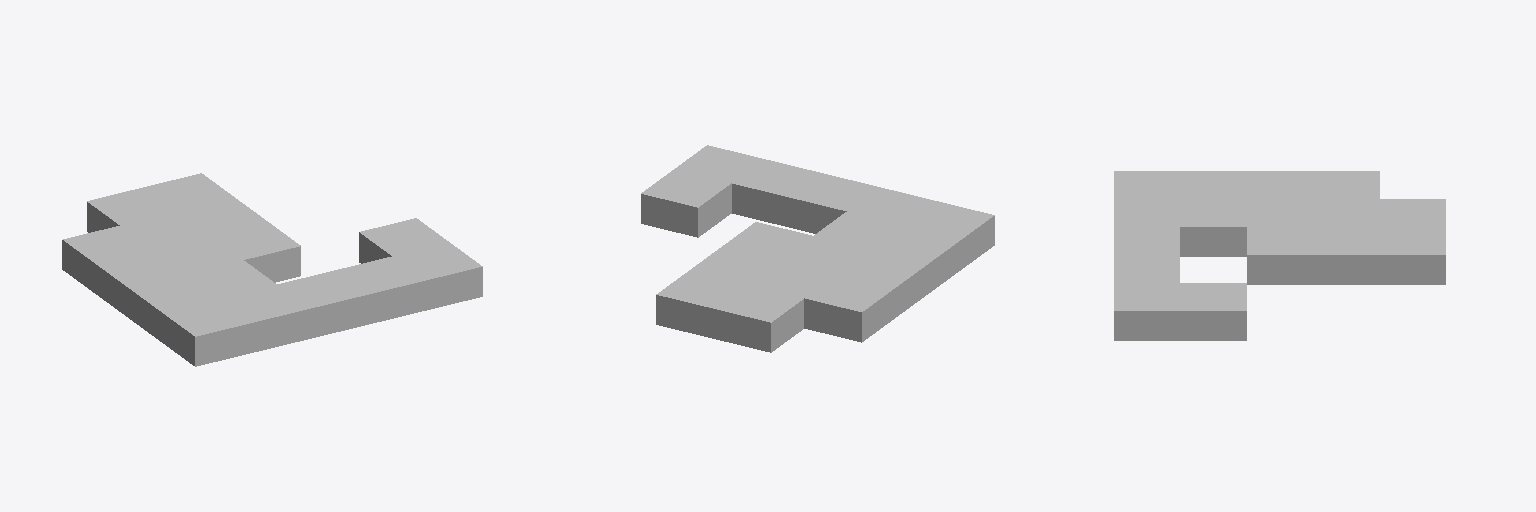
The model's file is 52f_block.obj.
The picture shows the model from 3 angles: view 1: azimuth 30°, elevation 25°; view 2: azimuth 150°, elevation 25°; view 3: azimuth 270°, elevation 25°; orthographic projection.
Parts seen in each view (by area): view 1: foil.block.0.0_block.4302, foil.block.4.0_block.4317, foil.block.2.0_block.4312, foil.block.1.0_block.4307, foil.block.3.0_block.4316, foil.block.2.2_block.4313, foil.block.0.3_block.4305, foil.block.0.2_block.4304, foil.block.0.1_block.4303, foil.block.4.1_block.4318, foil.block.1.4_block.4311, foil.block.2.4_block.4315 (+4 smaller); view 2: foil.block.0.3_block.4305, foil.block.4.1_block.4318, foil.block.1.4_block.4311, foil.block.2.4_block.4315, foil.block.3.0_block.4316, foil.block.2.0_block.4312, foil.block.0.1_block.4303, foil.block.0.0_block.4302, foil.block.0.2_block.4304, foil.block.1.1_block.4308, foil.block.1.3_block.4310, foil.block.2.3_block.4314 (+4 smaller); view 3: foil.block.1.1_block.4308, foil.block.2.3_block.4314, foil.block.4.1_block.4318, foil.block.2.2_block.4313, foil.block.2.4_block.4315, foil.block.4.0_block.4317, foil.block.0.1_block.4303, foil.block.0.3_block.4305, foil.block.1.3_block.4310, foil.block.0.0_block.4302, foil.block.0.2_block.4304, foil.block.1.0_block.4307 (+4 smaller).
Part boxes in pixels (x1,y1,x2,y2): foil.block.0.0_block.4302: (162,298,252,366); foil.block.4.0_block.4317: (392,242,482,310); foil.block.2.0_block.4312: (277,270,367,338); foil.block.1.0_block.4307: (220,285,309,352); foil.block.3.0_block.4316: (335,257,424,324); foil.block.2.2_block.4313: (212,222,300,282); foil.block.0.3_block.4305: (62,226,152,293); foil.block.0.2_block.4304: (96,250,184,317); foil.block.0.1_block.4303: (129,274,218,341); foil.block.4.1_block.4318: (359,218,448,263); foil.block.1.4_block.4311: (87,187,176,232); foil.block.2.4_block.4315: (145,173,234,210); foil.block.0.3_block.4305: (804,274,894,342); foil.block.4.1_block.4318: (641,169,731,237); foil.block.1.4_block.4311: (714,285,803,352); foil.block.2.4_block.4315: (656,270,746,338); foil.block.3.0_block.4316: (732,159,821,226); foil.block.2.0_block.4312: (789,173,878,233); foil.block.0.1_block.4303: (871,226,961,293); foil.block.0.0_block.4302: (904,201,994,268); foil.block.0.2_block.4304: (839,250,927,317); foil.block.1.1_block.4308: (814,212,903,249); foil.block.1.3_block.4310: (747,260,836,297); foil.block.2.3_block.4314: (690,246,779,283); foil.block.1.1_block.4308: (1180,199,1246,256); foil.block.2.3_block.4314: (1313,227,1379,284); foil.block.4.1_block.4318: (1180,283,1246,340); foil.block.2.2_block.4313: (1247,227,1312,284); foil.block.2.4_block.4315: (1380,227,1445,284); foil.block.4.0_block.4317: (1114,283,1179,340); foil.block.0.1_block.4303: (1180,171,1246,198); foil.block.0.3_block.4305: (1313,171,1379,198); foil.block.1.3_block.4310: (1313,199,1379,226); foil.block.0.0_block.4302: (1114,171,1179,198); foil.block.0.2_block.4304: (1247,171,1312,198); foil.block.1.0_block.4307: (1114,199,1179,226).
Bounding box in the file's own units: 10 × 1 × 10.